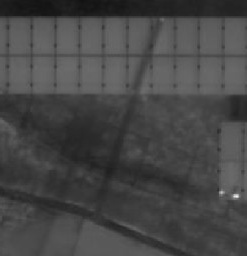solar: (5, 15, 34, 56), (28, 15, 57, 56), (53, 15, 82, 56), (76, 15, 105, 56), (100, 15, 129, 56), (125, 15, 154, 56), (149, 15, 178, 56), (172, 15, 201, 56), (196, 15, 225, 56), (196, 52, 225, 93), (172, 52, 201, 93), (149, 52, 178, 93), (124, 52, 153, 93), (100, 52, 129, 93), (76, 52, 105, 93), (52, 52, 81, 93), (29, 52, 58, 93), (4, 52, 33, 93), (218, 119, 247, 160), (217, 160, 246, 201)
